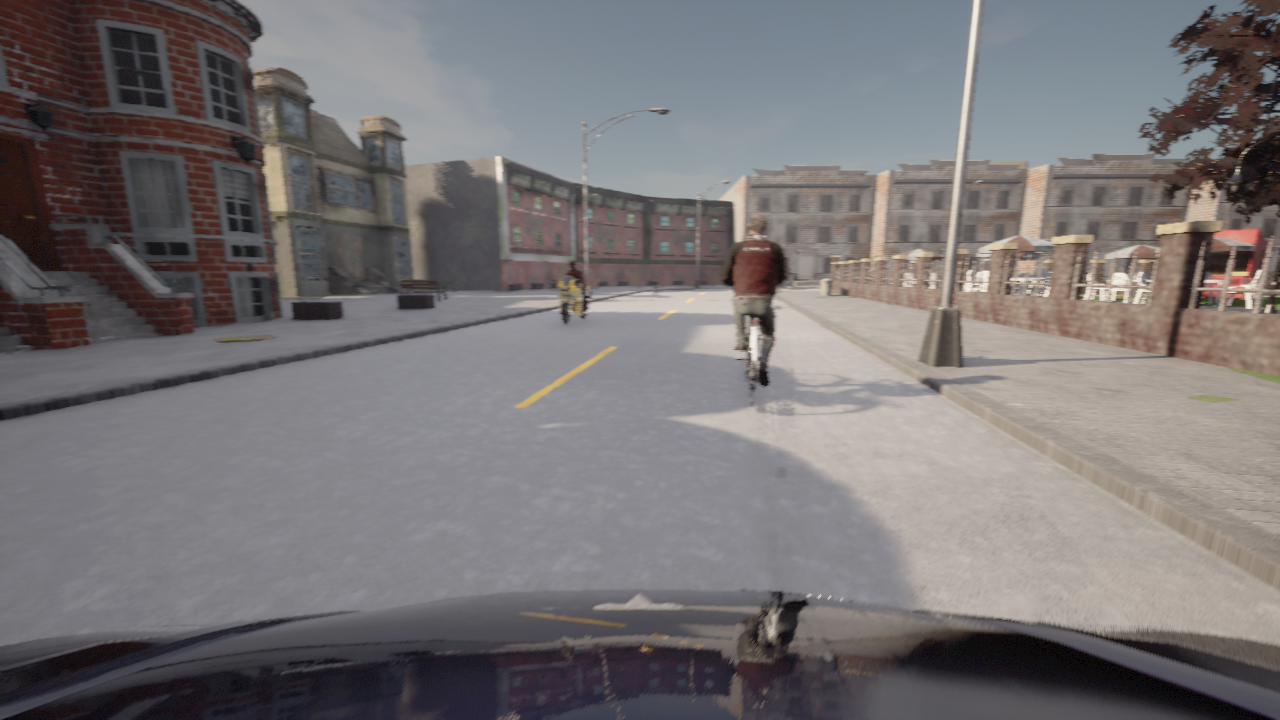cyclist: (0, 588, 1279, 719), (736, 316, 769, 406), (550, 275, 592, 325)
pedestrian: (785, 266, 788, 285)
